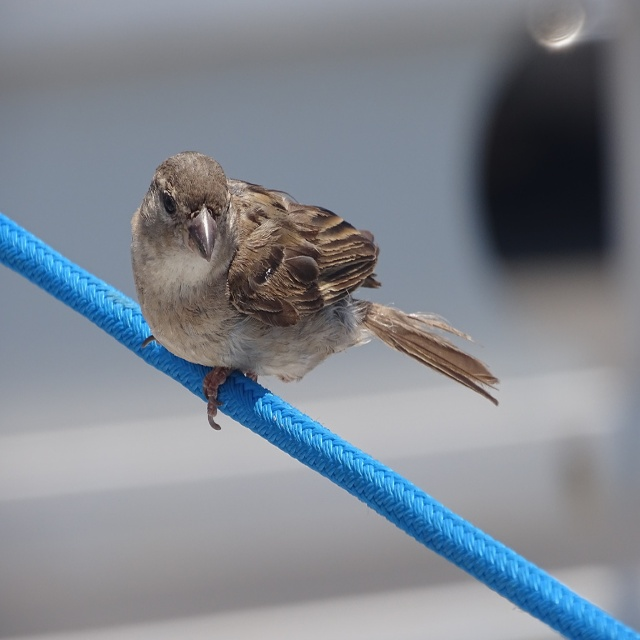Sparrow: (130, 151, 500, 431)
